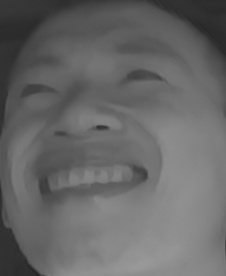eye: (121, 61, 169, 96), (16, 79, 65, 107)
mouth: (36, 158, 152, 205)
